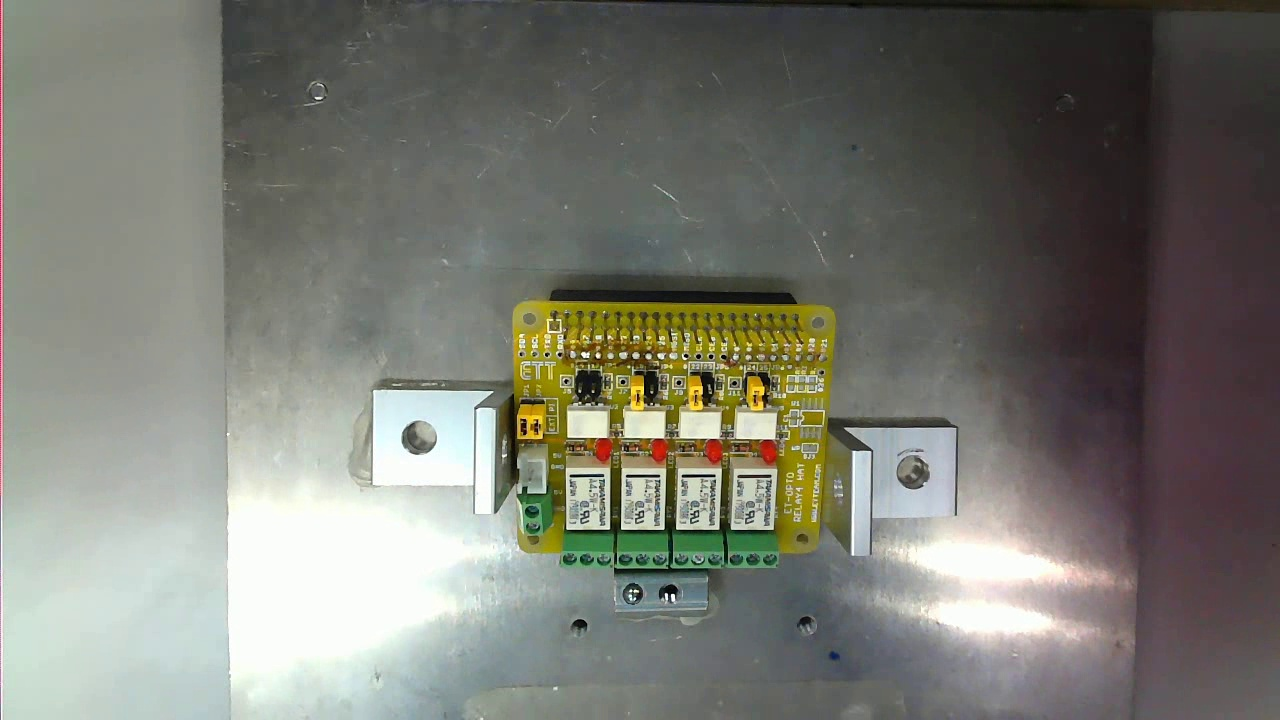can: (493, 296, 840, 575)
